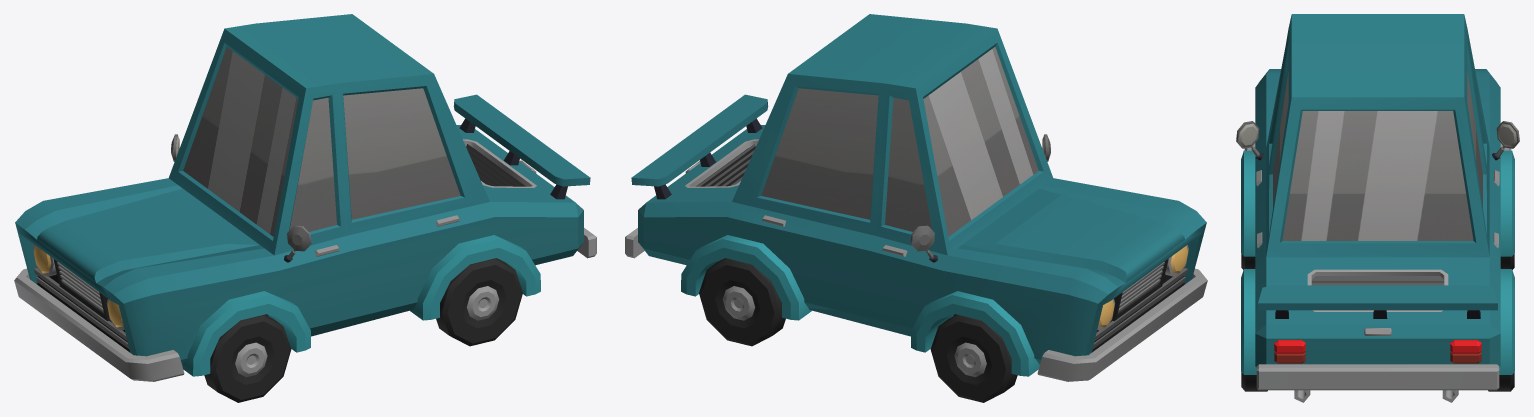
File: Car_6_A.gltf
3 renders of one model, left to right at view 1: azimuth 30°, elevation 25°; view 2: azimuth 150°, elevation 25°; view 3: azimuth 270°, elevation 25°, orthographic. The views are drawn at different scales.
Parts seen in each view (by area): view 1: Car_6_A, RL, FL; view 2: Car_6_A, RR, FR; view 3: Car_6_A, RL, RR.
Boxes of the visible parts, bbox=[...] form: Car_6_A: bbox=[14, 14, 596, 381]; RL: bbox=[436, 258, 522, 346]; FL: bbox=[204, 314, 291, 402]; Car_6_A: bbox=[625, 14, 1207, 381]; RR: bbox=[699, 258, 785, 346]; FR: bbox=[930, 314, 1017, 402]; Car_6_A: bbox=[1236, 14, 1519, 402]; RL: bbox=[1241, 372, 1267, 391]; RR: bbox=[1488, 372, 1514, 391].
Bounding box in the file's own units: 3.1 × 1.72 × 1.51.
4 materials, 4 textured.
